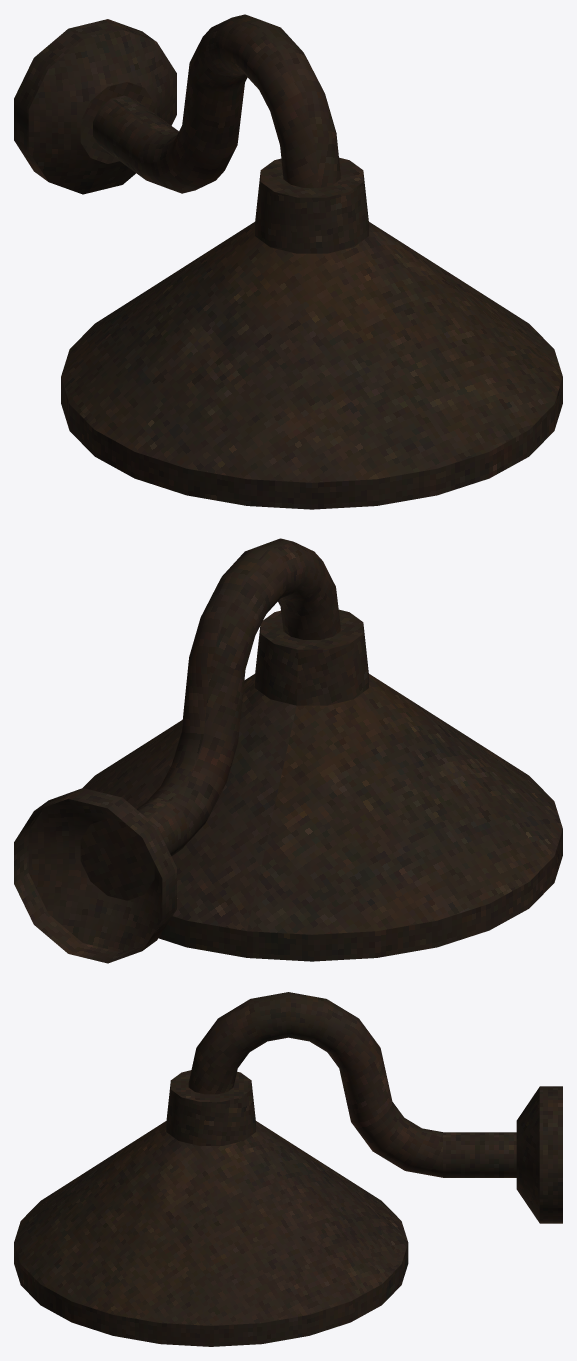
The model's file is lamp_mx_3_on.glb.
3 renders of one model, top to bottom at view 1: azimuth 30°, elevation 25°; view 2: azimuth 150°, elevation 25°; view 3: azimuth 270°, elevation 25°, orthographic. The views are drawn at different scales.
Parts seen in each view (by area): view 1: lamp_mx_3_on; view 2: lamp_mx_3_on; view 3: lamp_mx_3_on.
Part boxes in pixels (box(x1,y1,x2,y2)): lamp_mx_3_on: box(14, 14, 562, 509); lamp_mx_3_on: box(14, 538, 562, 963); lamp_mx_3_on: box(14, 992, 562, 1346).
Size of the model in its own units: 0.51 by 0.418 by 0.71.
Materials: 2 (2 with a texture image).
